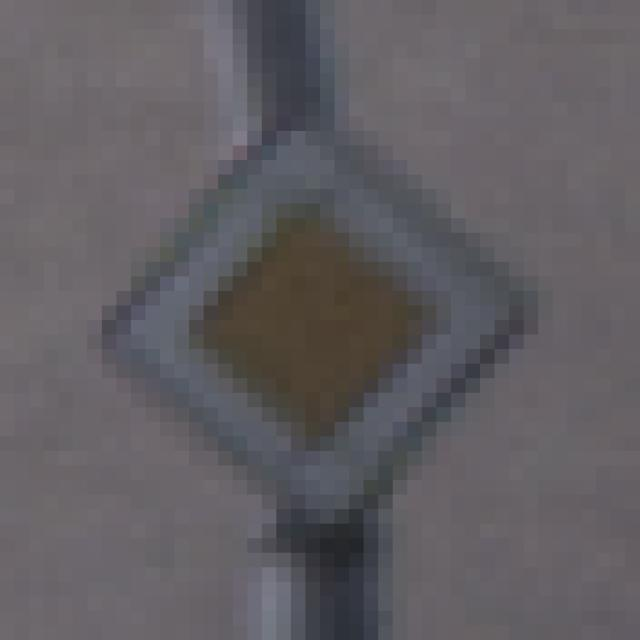Main Road: (74, 89, 568, 569)
